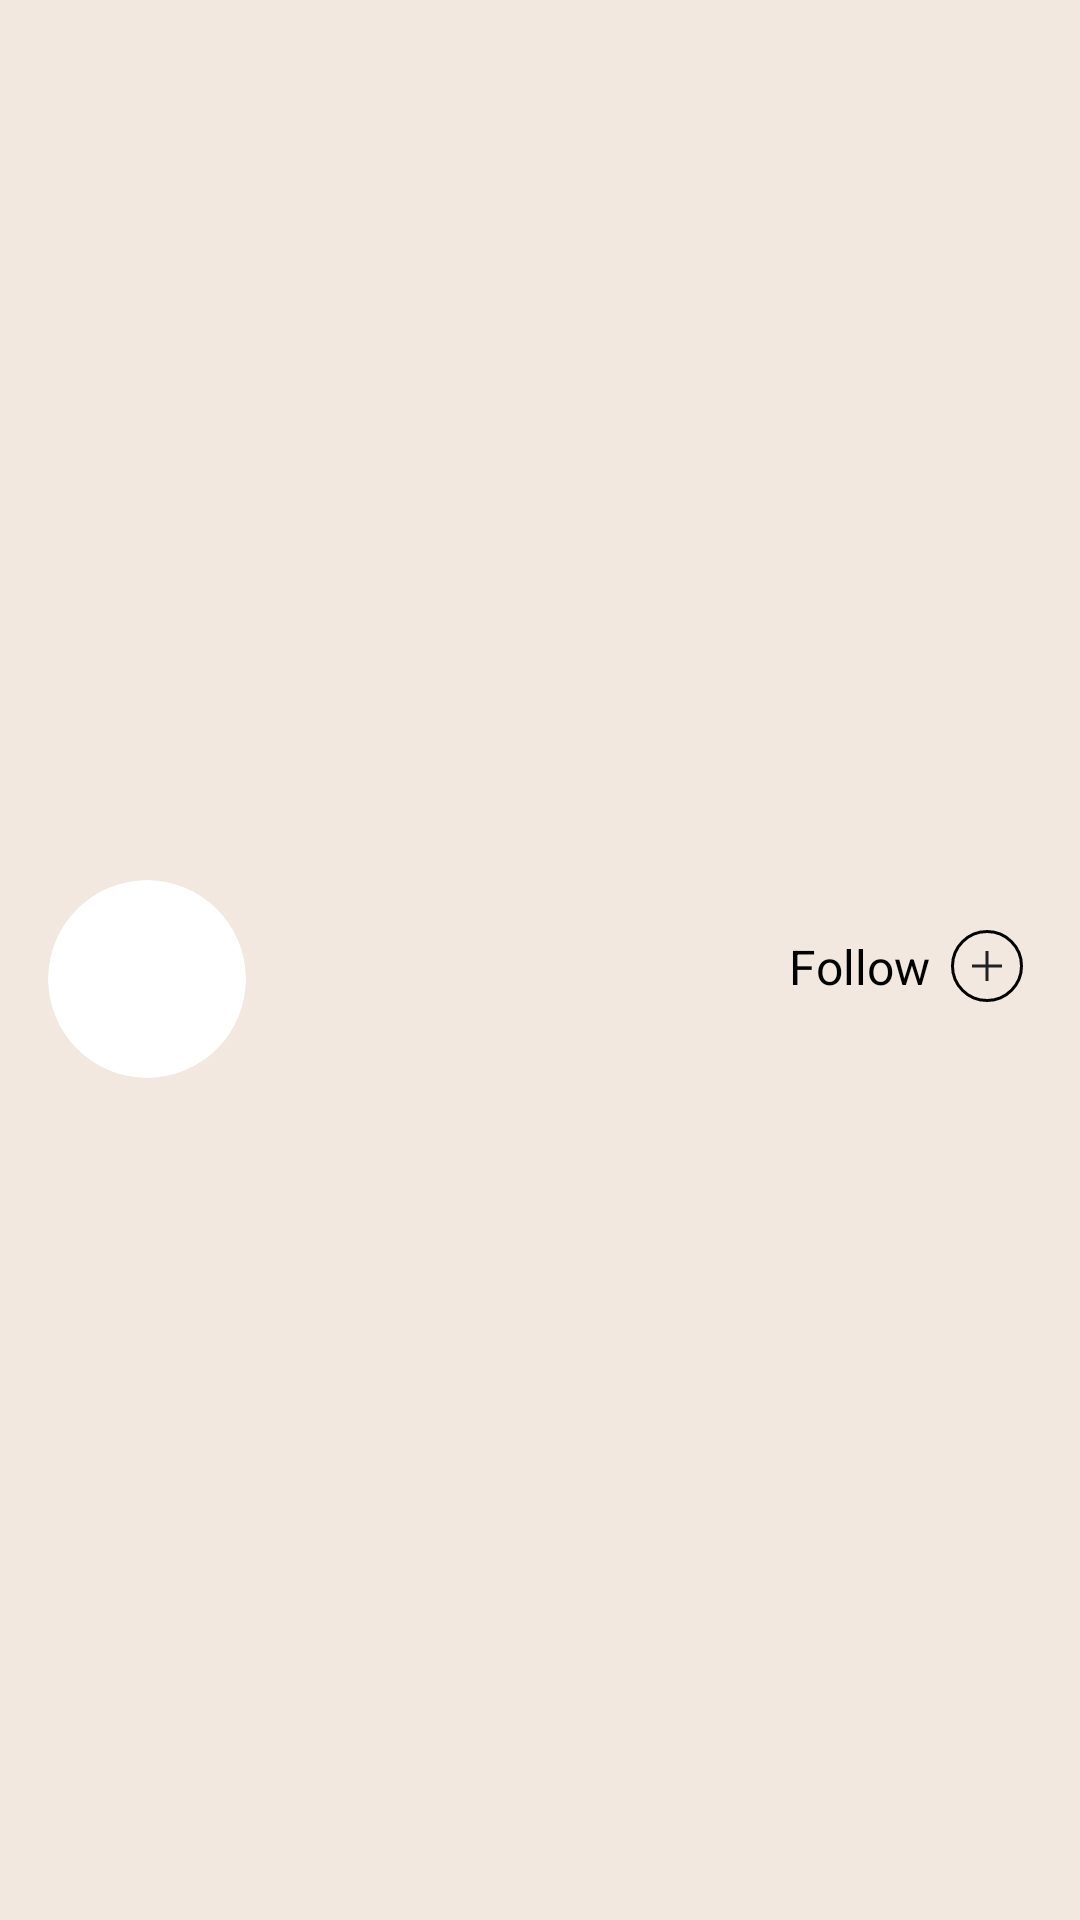

Screen size 1080px×1920px. Icon name, then its center in pixels as (x=x, y=y):
subscribe: (x=987, y=966)
